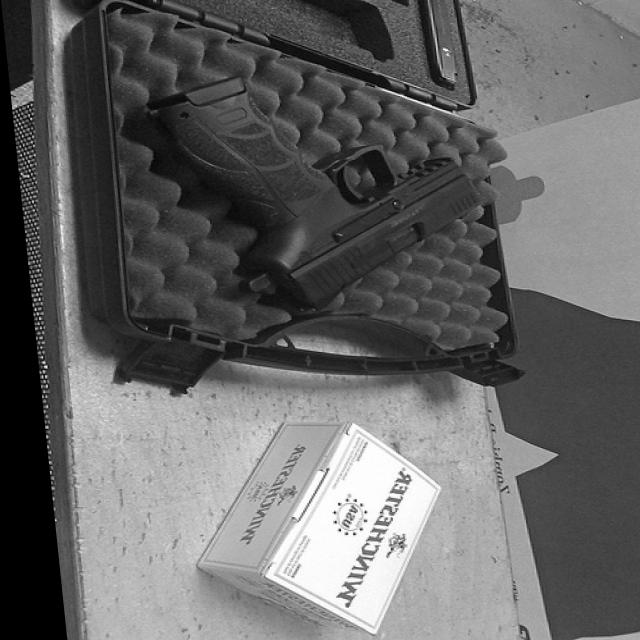handgun: (140, 76, 483, 312)
